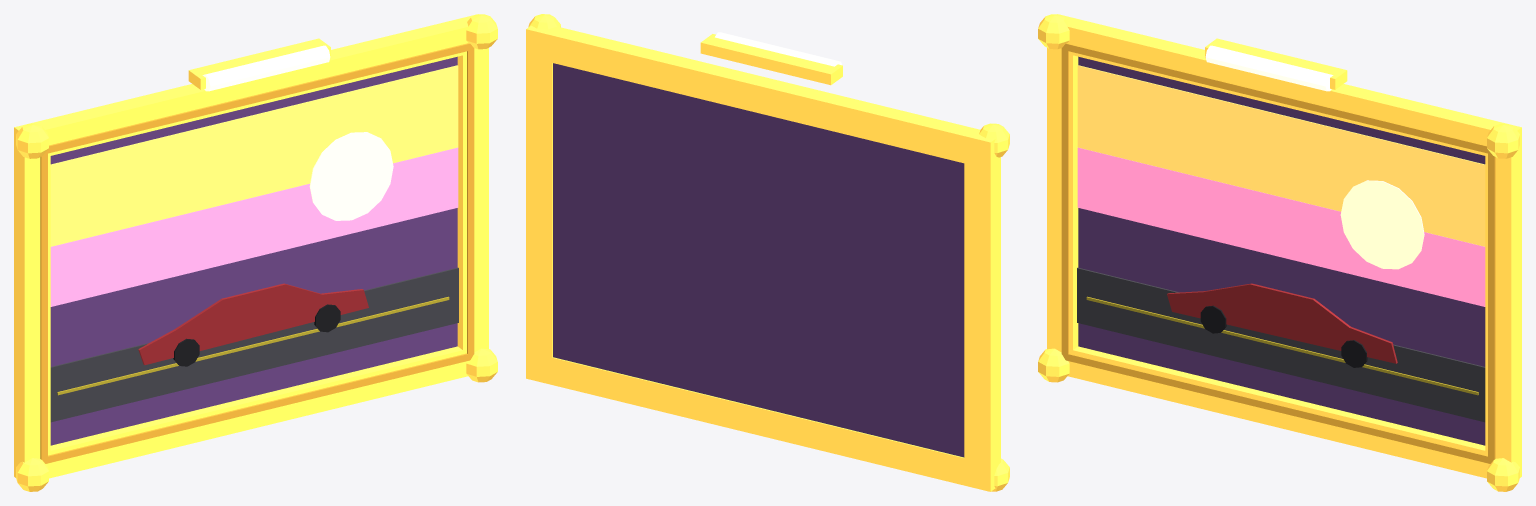
Rendered from lux_gold_painting.glb.
The picture shows the model from 3 angles, left to right: view 1: azimuth 30°, elevation 25°; view 2: azimuth 150°, elevation 25°; view 3: azimuth 330°, elevation 25°; orthographic projection.
Visible parts, largest first — view 1: lux_gold_painting; view 2: lux_gold_painting; view 3: lux_gold_painting.
Boxes of the visible parts, bbox=[...] form: lux_gold_painting: bbox=[14, 14, 497, 491]; lux_gold_painting: bbox=[526, 14, 1009, 491]; lux_gold_painting: bbox=[1038, 14, 1521, 491].
Bounding box in the file's own units: 1.83 × 1.4 × 0.16.
